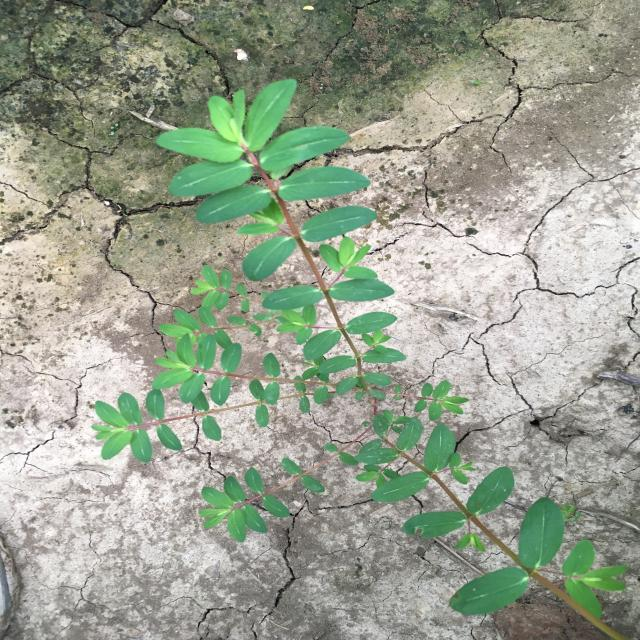SpottedSpurge: (91, 79, 629, 638)
